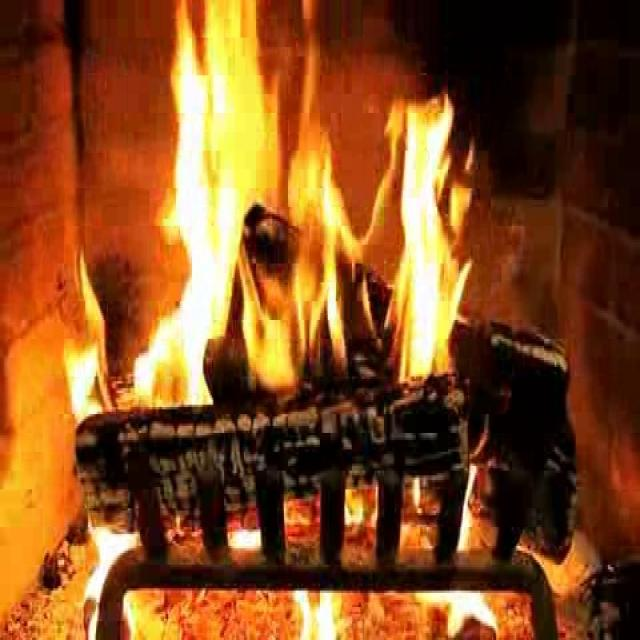fire: (156, 12, 490, 446)
